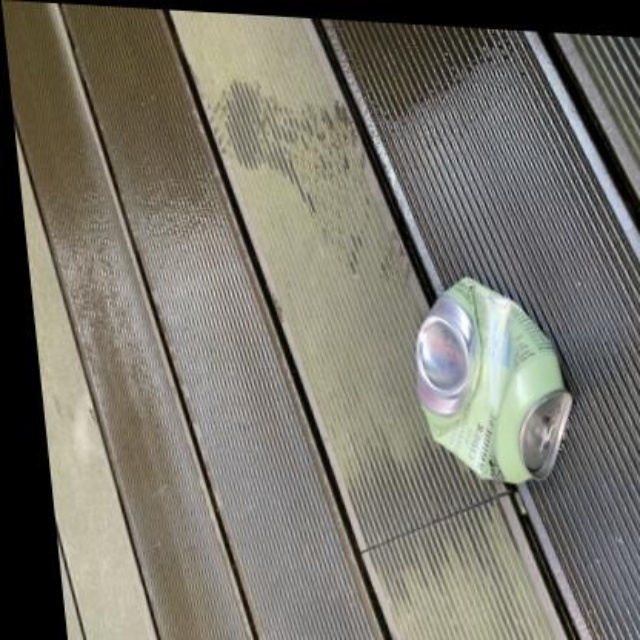trash: (417, 278, 571, 482)
